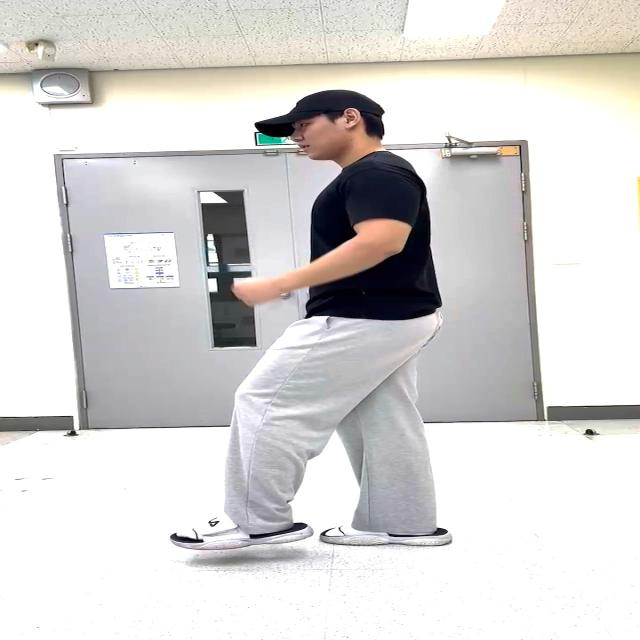leg: (145, 327, 383, 574)
